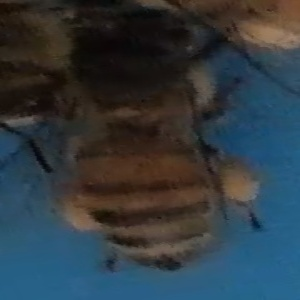bee: (63, 14, 275, 279)
